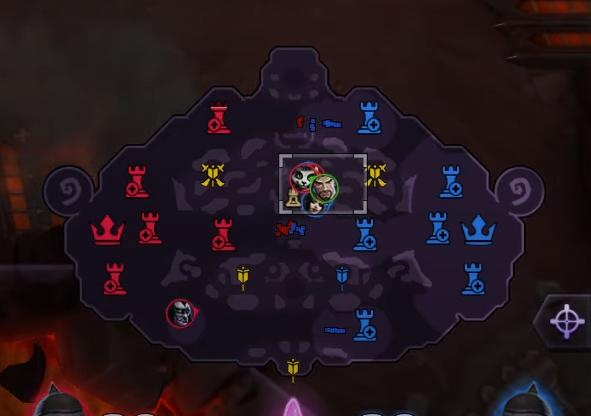blue nexus: (462, 212, 497, 249)
blue player: (300, 190, 330, 218)
blue tower: (353, 98, 389, 142), (346, 303, 385, 342), (435, 160, 466, 202), (424, 209, 450, 245), (352, 216, 377, 251), (460, 260, 485, 295)
red nexus: (88, 213, 125, 246)
red player: (287, 162, 322, 194), (164, 298, 197, 329)
red tower: (99, 258, 135, 304), (207, 214, 239, 260), (137, 207, 166, 247), (124, 163, 149, 198), (207, 101, 231, 134)
